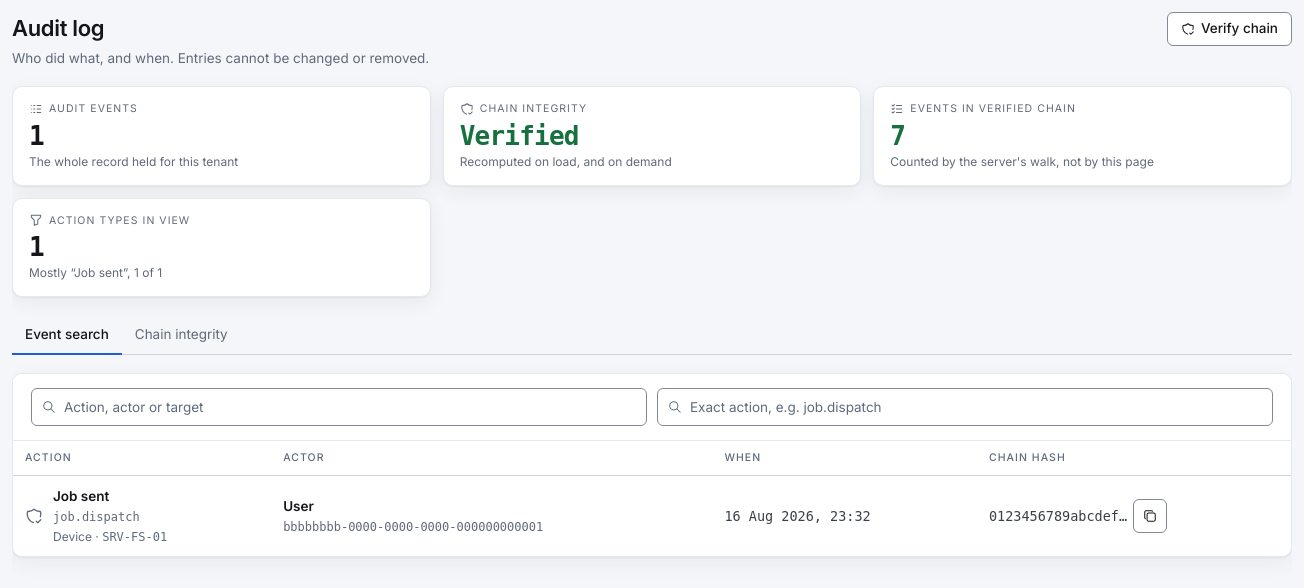
Test: AuditPage › says verified only when the chain walk returned ok
The width and height of the screenshot is (1304, 588).
Expected: the text "job.dispatch" is shown, top-left (53, 510), bottom-right (140, 524)
Click the tab "Chain integrity" at (181, 335), box top-left (122, 315), bottom-right (241, 355)
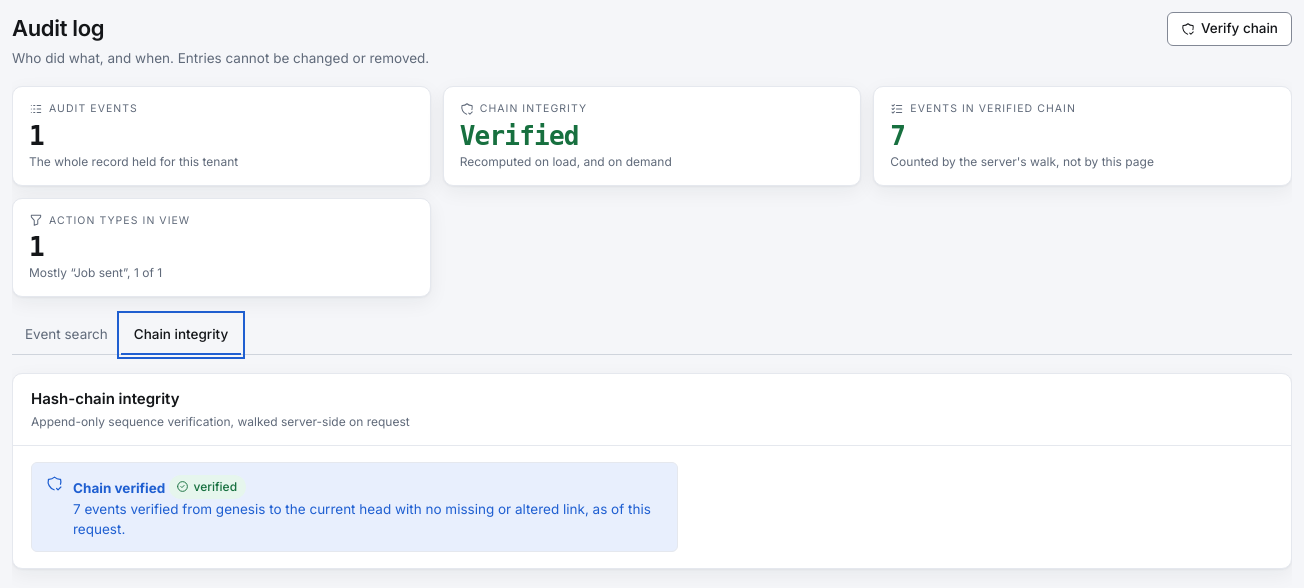
Now the text "Chain verified verified" is shown, box top-left (73, 480), bottom-right (246, 496)
